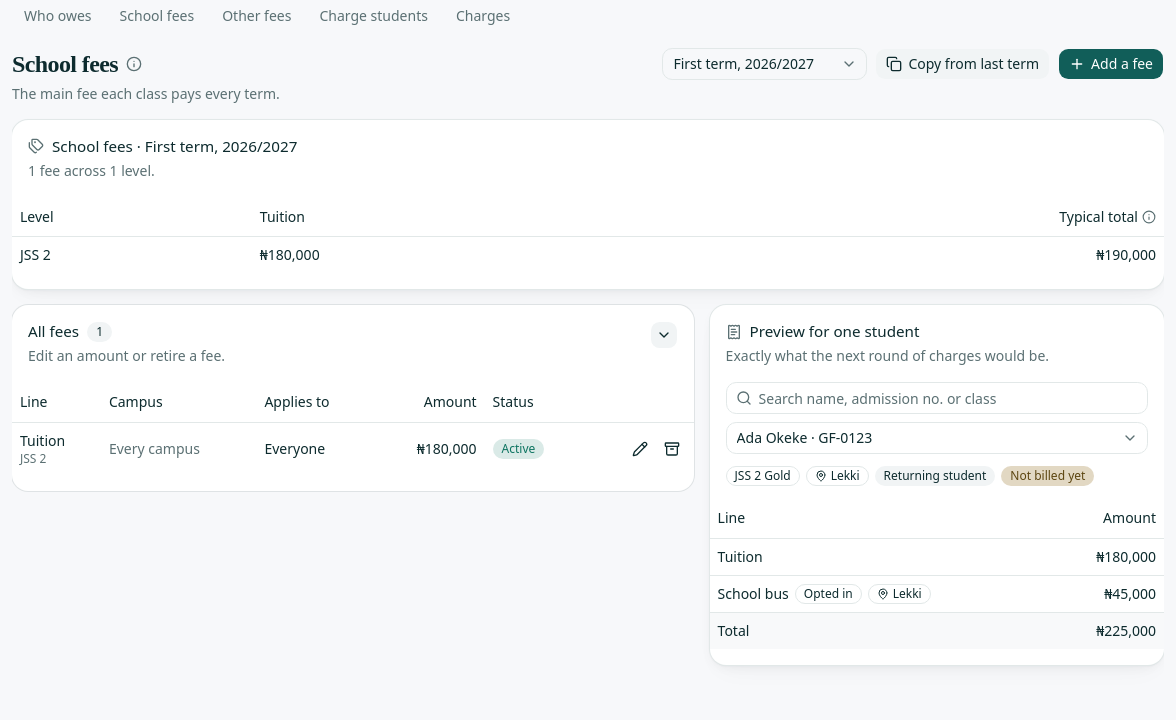
Test: the preview card › says so when nothing matches and hides the picker
Expected: the dropdown named "Preview student" is shown, [726,422,1148,454]
Type "zzz" into the field named "Search students". click: (937, 398)
box: [726,382,1148,414]
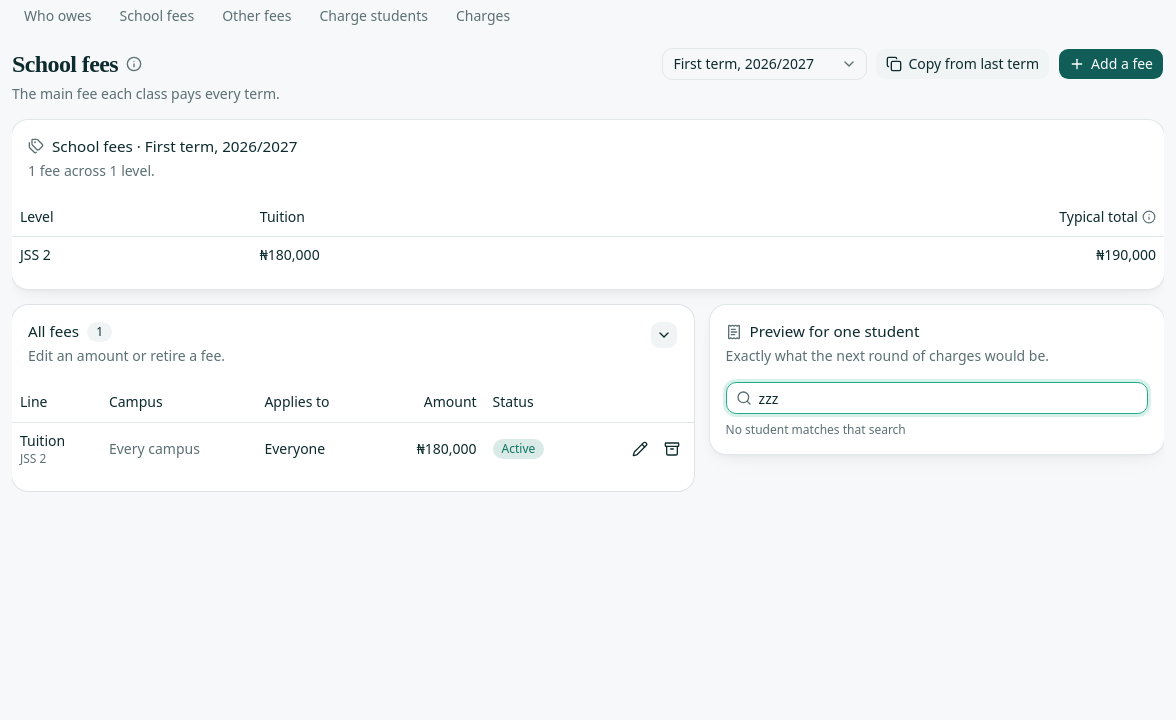
Now the text "No student matches that search" is shown, box [726,421,906,438]
